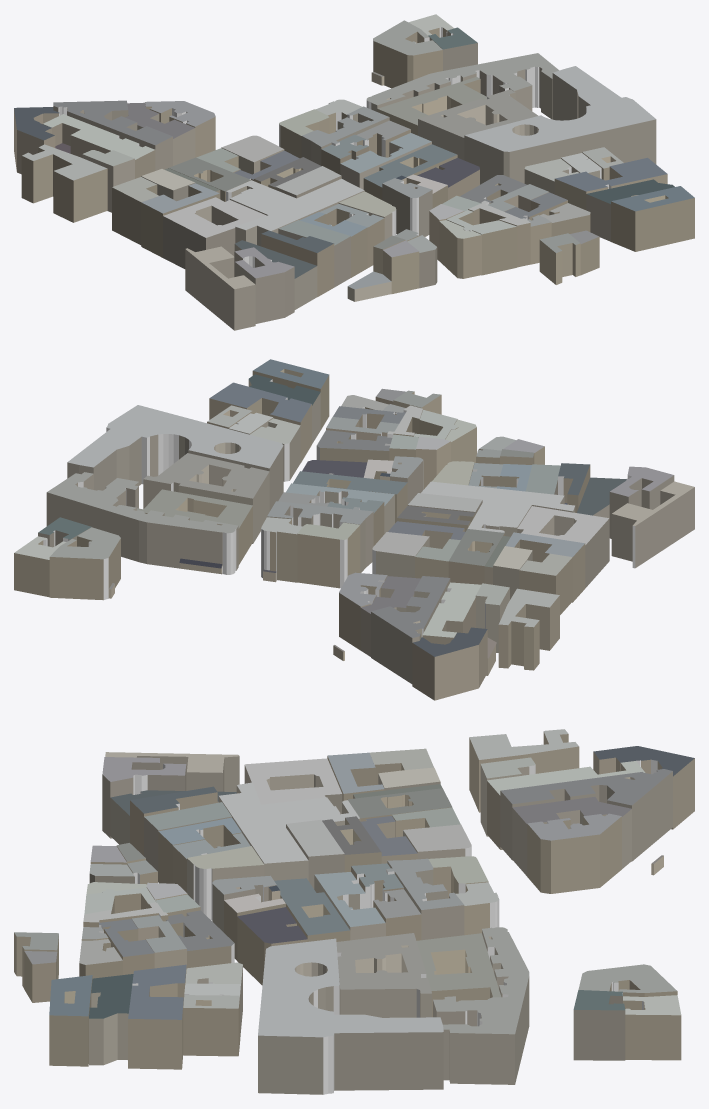
The picture shows the model from 3 angles, top to bottom: view 1: azimuth 30°, elevation 25°; view 2: azimuth 150°, elevation 25°; view 3: azimuth 270°, elevation 25°; orthographic projection. The views are drawn at different scales.
Visible parts, largest first — view 1: tuile; view 2: tuile; view 3: tuile.
Part boxes in pixels (x1,y1,x2,y2): tuile: [14, 14, 694, 330]; tuile: [14, 359, 694, 700]; tuile: [14, 729, 694, 1094].
Size of the model in its own units: 292 by 28.6 by 270.
